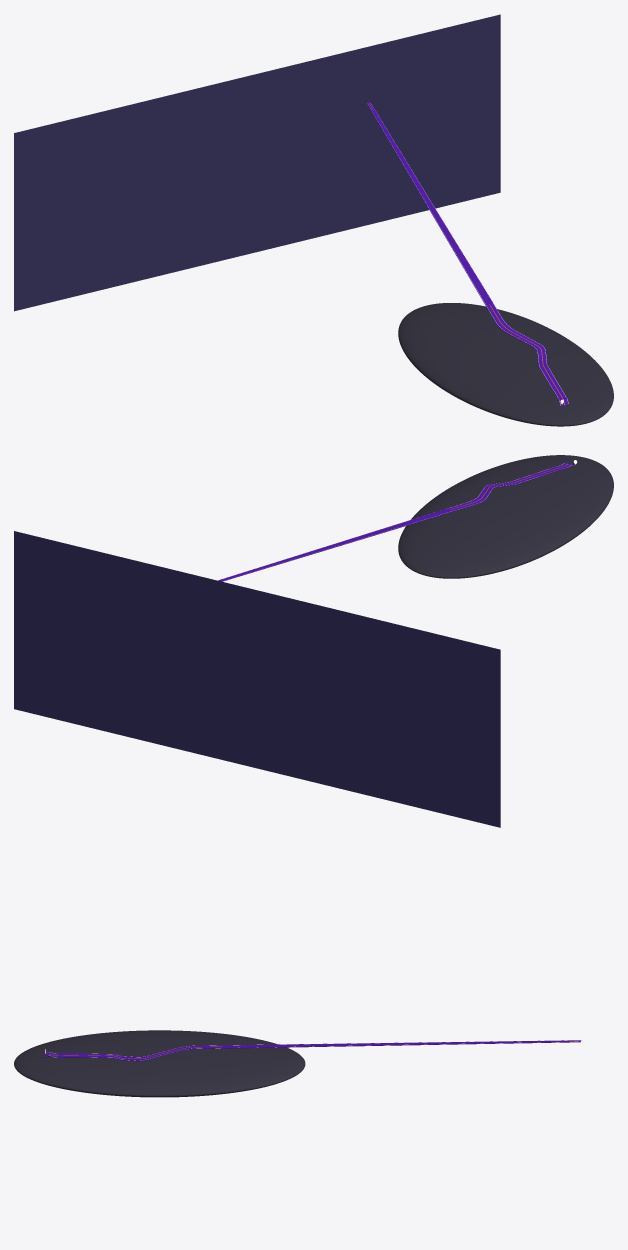
File: banner.gltf
The picture shows the model from 3 angles, top to bottom: view 1: azimuth 30°, elevation 25°; view 2: azimuth 150°, elevation 25°; view 3: azimuth 270°, elevation 25°; orthographic projection. The views are drawn at different scales.
Parts seen in each view (by area): view 1: 背景, 地面, 公路; view 2: 背景, 地面, 公路; view 3: 地面, 公路.
Part boxes in pixels (x1,y1,x2,y2): 背景: [14, 14, 500, 311]; 地面: [398, 303, 613, 426]; 公路: [367, 102, 568, 405]; 背景: [14, 531, 500, 827]; 地面: [398, 455, 613, 578]; 公路: [218, 463, 577, 581]; 地面: [14, 1030, 305, 1097]; 公路: [44, 1040, 581, 1061].
Size of the model in its own units: 51.84 by 18.14 by 60.64.
